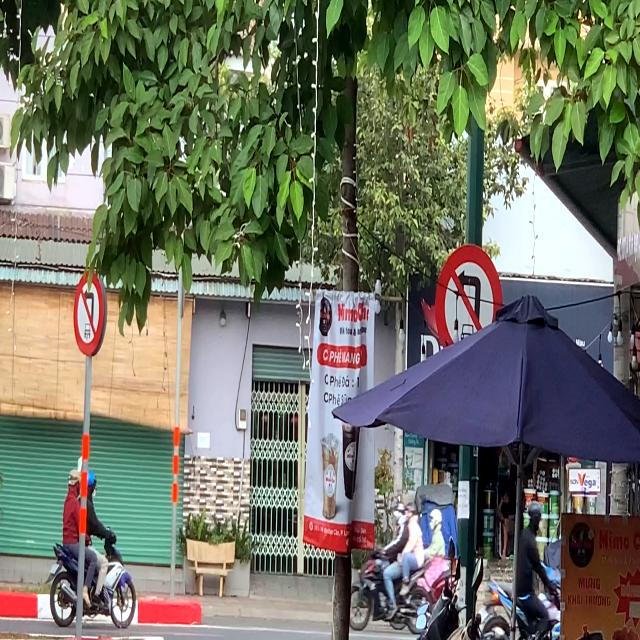P.103c: (434, 243, 503, 371), (73, 268, 105, 358)
